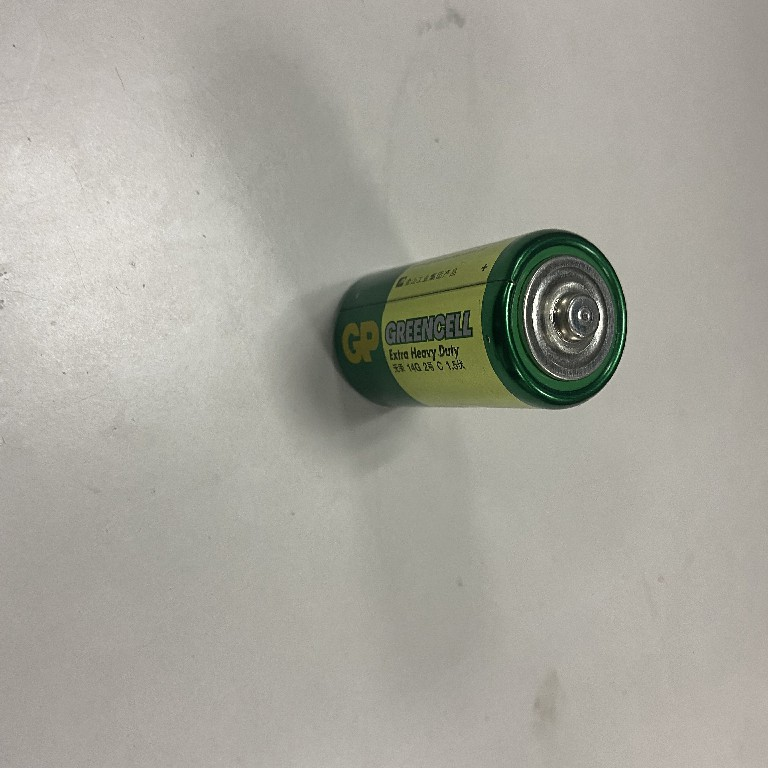charge: (330, 226, 633, 417)
